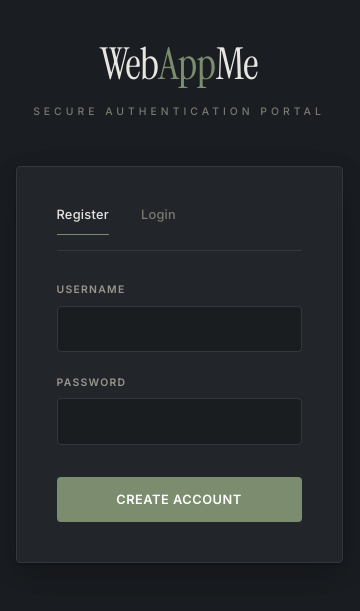
Scenario: App › clears form on successful registration
Type "test" into the field labelled "Username".
click(179, 329); type("test")  # box [56,306,302,352]
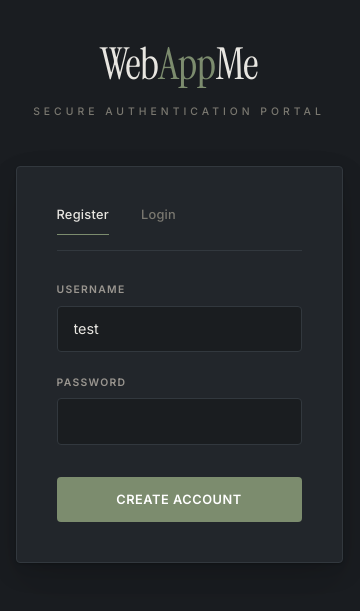
Type "password" into the password field labelled "Password".
click(179, 422); type("password")  # box [56,398,302,445]
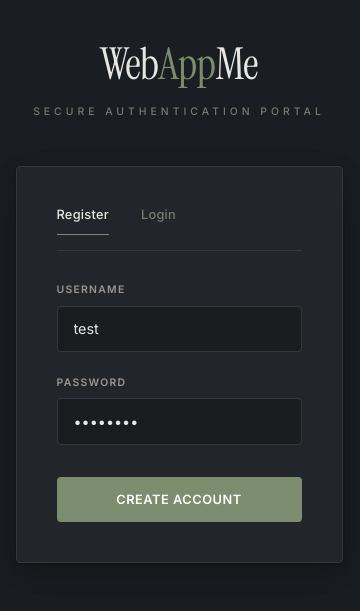
Click the button "Create Account".
click(179, 499)  # box [56,477,302,522]
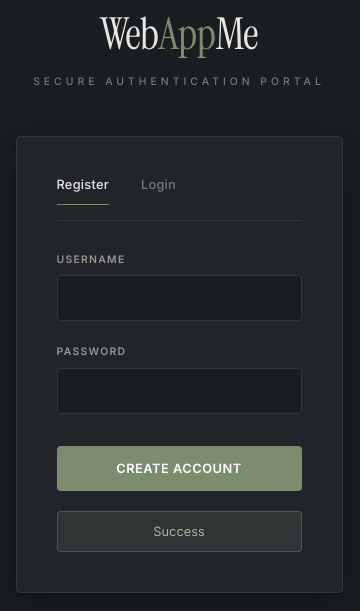
Now the text "Success" is shown, box [56,512,302,552]
Now the field labelled "Username" is empty, box [56,275,302,321]
